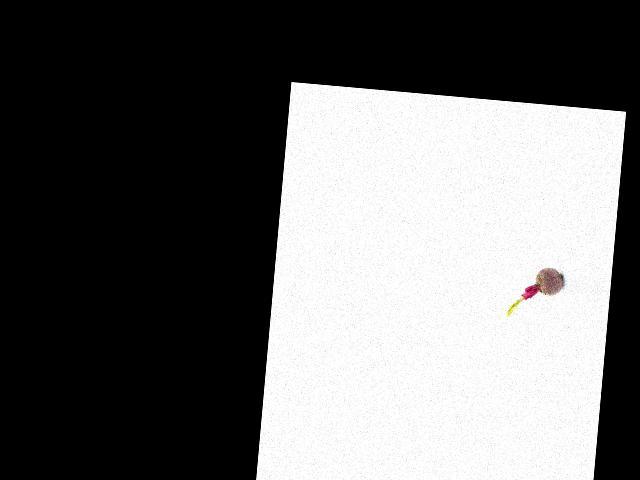beet: (507, 263, 564, 320)
